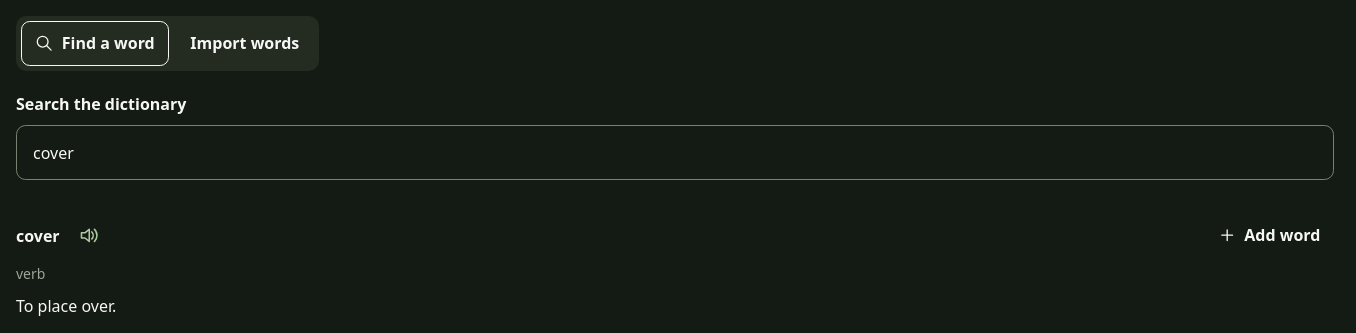
Test: adds and cancels selections without requests and shows Saved only after an exit commit
Click the button with aria-label "Add cover" at (1269, 235), box x1=1204 y1=214 x2=1334 y2=257
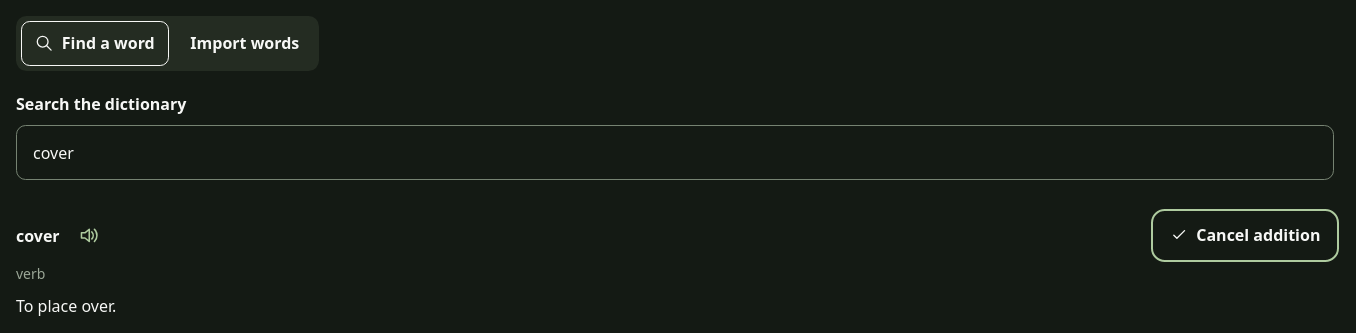
Expected: the button "Saved cover" is not shown
Click the button with aria-label "Cancel addition of cover" at (1245, 235), box x1=1156 y1=214 x2=1334 y2=257
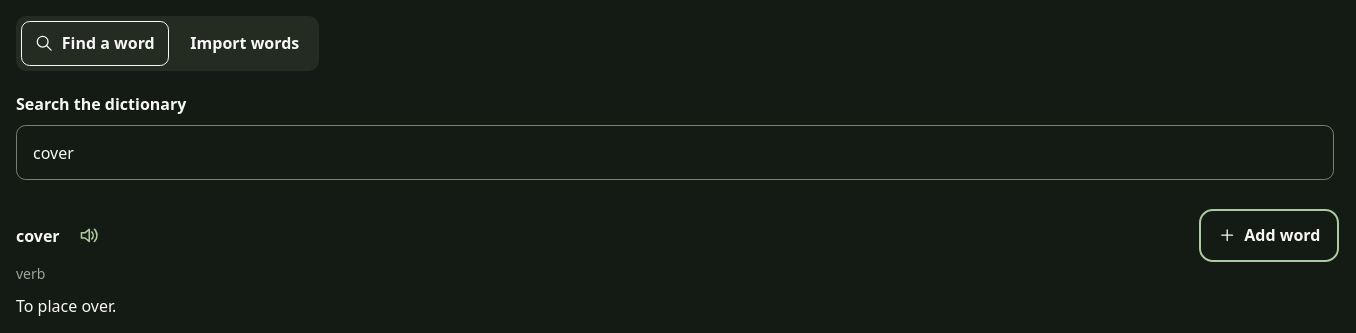
Click the button with aria-label "Add cover" at (1269, 235), box x1=1204 y1=214 x2=1334 y2=257
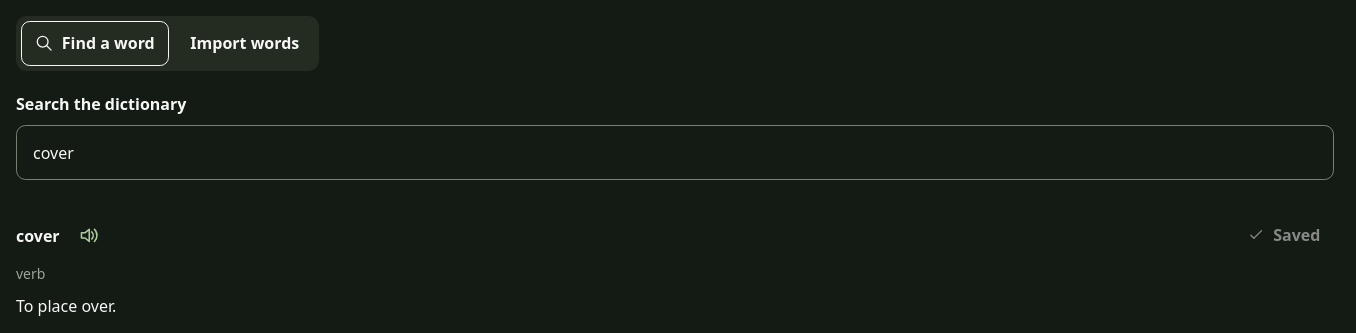
Result: the button with aria-label "Saved cover" is disabled at x1=1233 y1=214 x2=1334 y2=257
